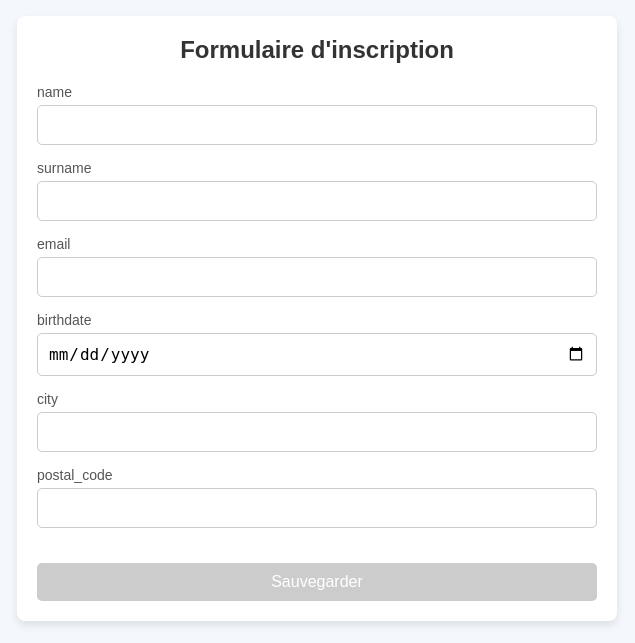
Scenario: RegistrationForm › should submit form when valid
The image size is (635, 643).
Type "John" into the field labelled "name". click: (317, 124)
box: [37,104,597,144]
Type "Doe" into the field labelled "surname". click: (317, 200)
box: [37,180,597,220]
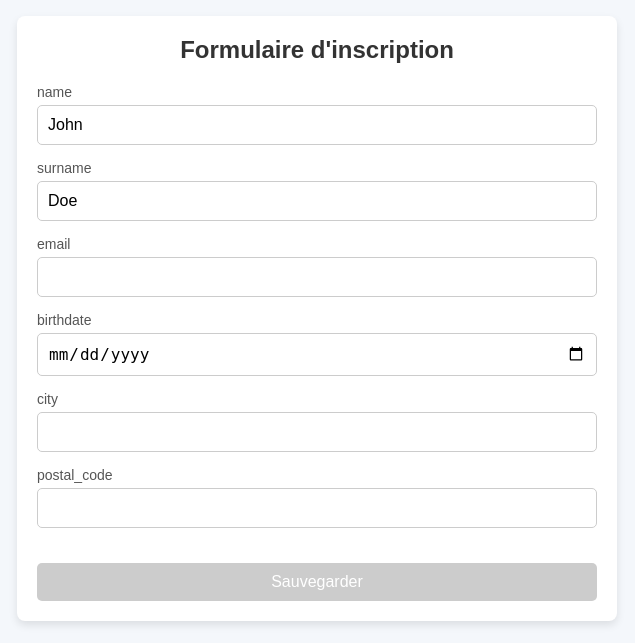
Type "john.doe@example.com" into the field labelled "email". click: (317, 276)
box: [37,256,597,296]
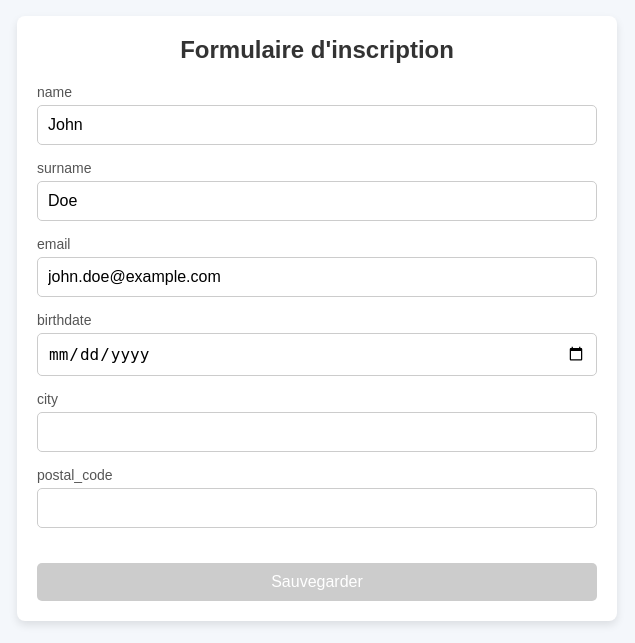
Type "2000-01-01" into the date field labelled "birthdate". click: (317, 354)
box: [37,332,597,376]
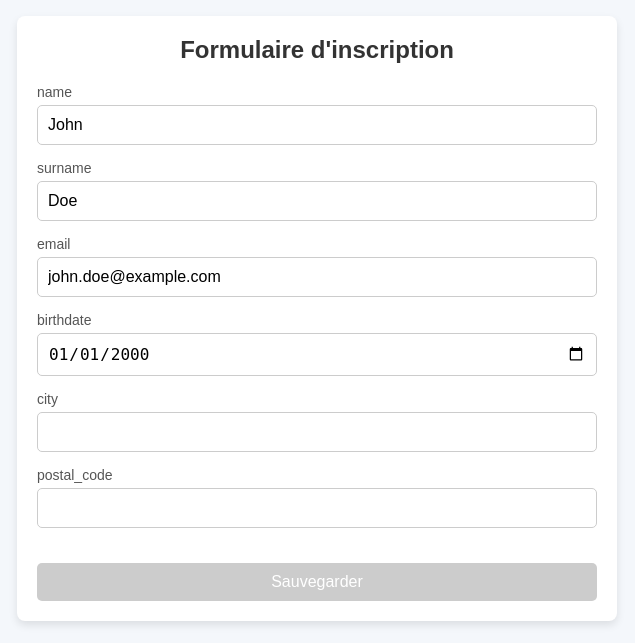
Type "Paris" into the field labelled "city". click: (317, 432)
box: [37,412,597,452]
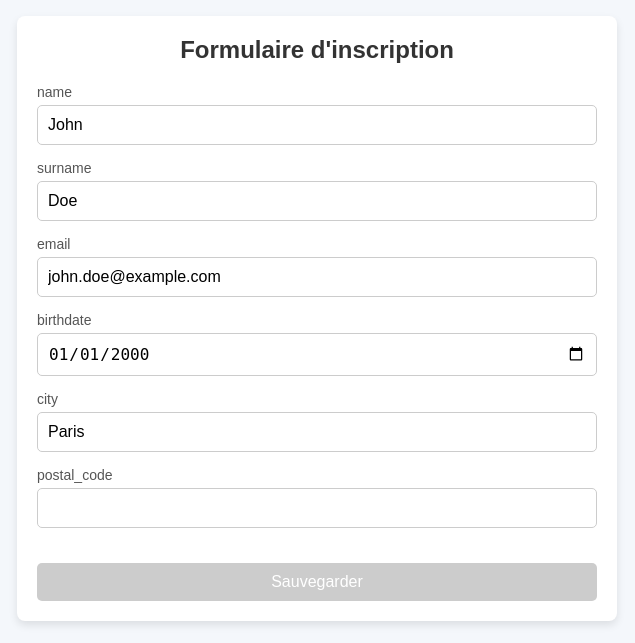
Type "75000" into the field labelled "postal_code". click: (317, 508)
box: [37,488,597,528]
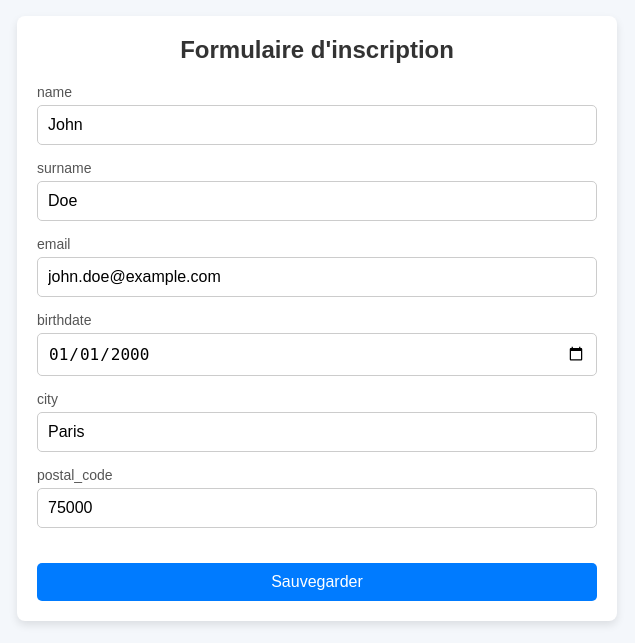
Submit the form from the button "Sauvegarder", box [37,562,597,600]
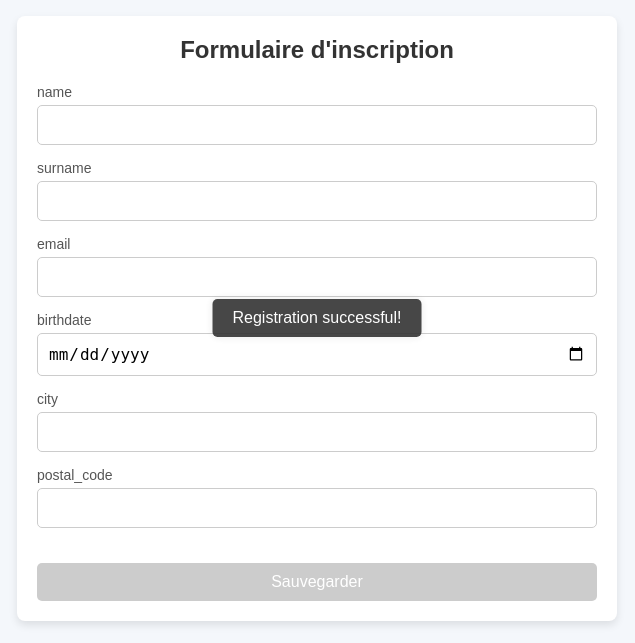
Now the text "Registration successful!" is shown, box [212,299,422,337]
Now the field labelled "name" is empty, box [37,104,597,144]
Now the field labelled "surname" is empty, box [37,180,597,220]
